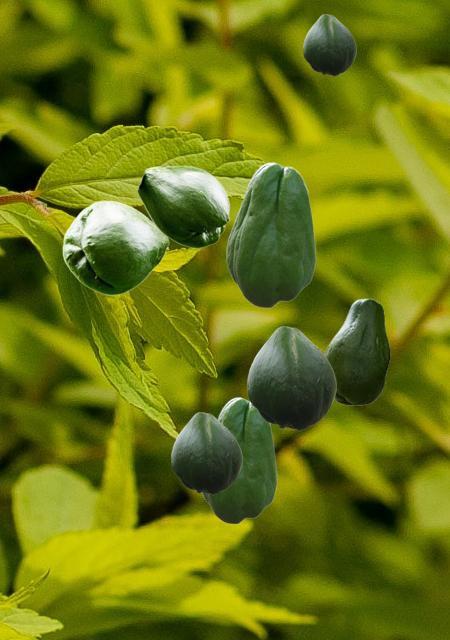sayote: (226, 162, 315, 307), (62, 200, 168, 294), (201, 397, 276, 523), (247, 326, 335, 430), (137, 165, 229, 247), (324, 298, 389, 404), (171, 412, 241, 494), (303, 14, 355, 75)
